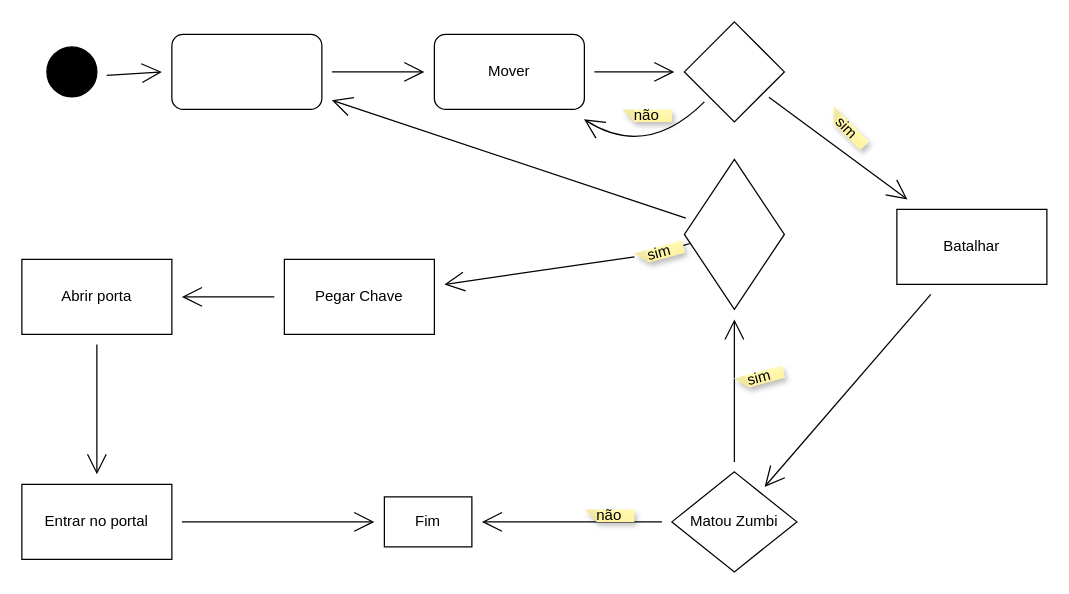
This 1069x594 diagram has some shape labels left out. Here are the shapes that lost their labels. From the top down, the centre of each, then its label:
At (246,71): "Rolar Dado de movimento".
At (733,71): "Encontrou Zumbi".
At (733,233): "Quantidade de zumbis mortos: 2".
